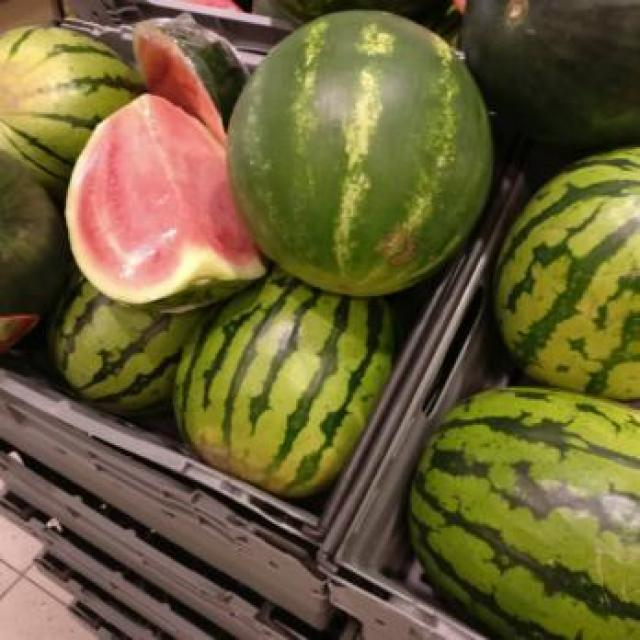Watermelon: (232, 4, 486, 285), (416, 379, 638, 638), (177, 285, 396, 489), (68, 101, 263, 305), (498, 140, 638, 404), (42, 276, 208, 412), (0, 17, 147, 164)
